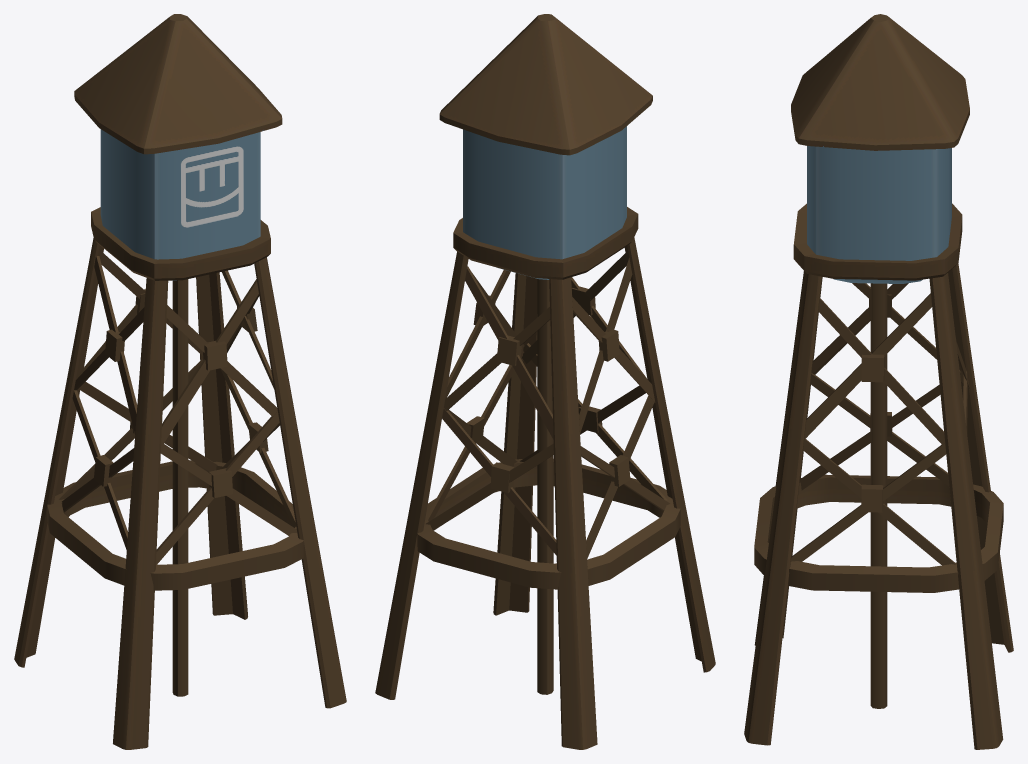
Rendered from Water Tower.obj.
3 renders of one model, left to right at view 1: azimuth 30°, elevation 25°; view 2: azimuth 150°, elevation 25°; view 3: azimuth 270°, elevation 25°, orthographic.
Parts seen in each view (by area): view 1: WaterTower_LOD0; view 2: WaterTower_LOD0; view 3: WaterTower_LOD0.
Boxes of the visible parts, <box> form: WaterTower_LOD0: <box>14,14,346,749</box>; WaterTower_LOD0: <box>375,14,715,749</box>; WaterTower_LOD0: <box>744,14,1013,749</box>.
Bounding box in the file's own units: 8.98 × 24.95 × 8.88.
Materials: 1 (1 with a texture image).
